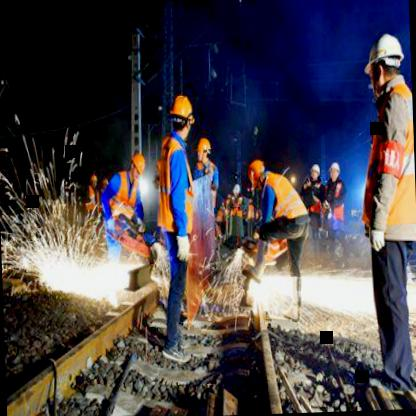helmet: (363, 33, 405, 91), (168, 89, 196, 140), (246, 156, 270, 190), (127, 150, 149, 183), (196, 132, 214, 164), (308, 160, 323, 184), (328, 160, 341, 182)
